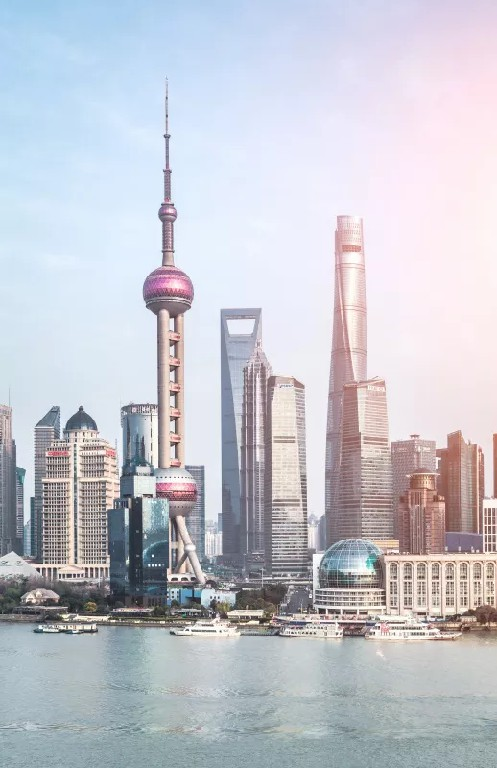Oriental: (142, 77, 207, 584)
